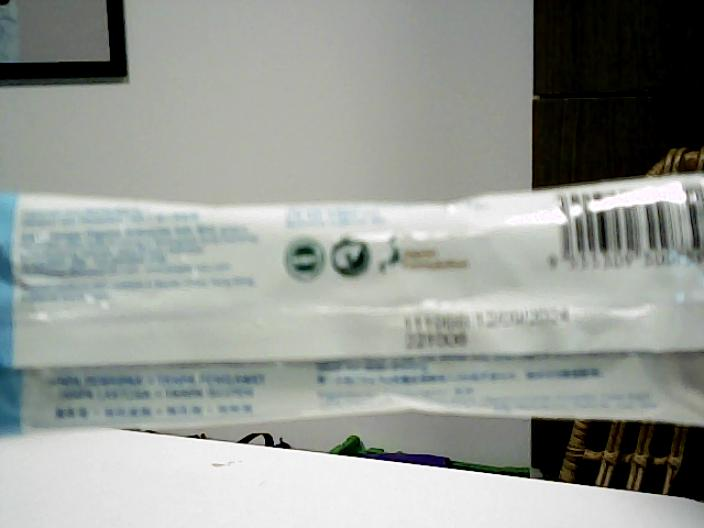Adult_Milk_0-99g_Halal_NonHealthy: (1, 180, 702, 429)
